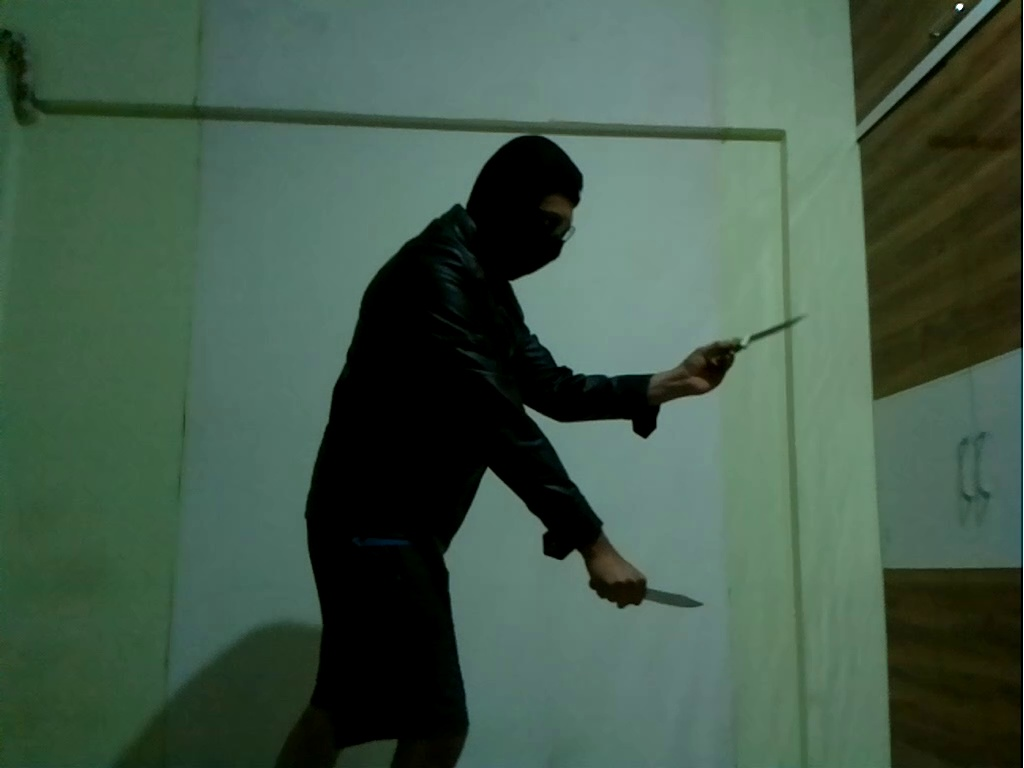knife: (638, 580, 709, 611)
